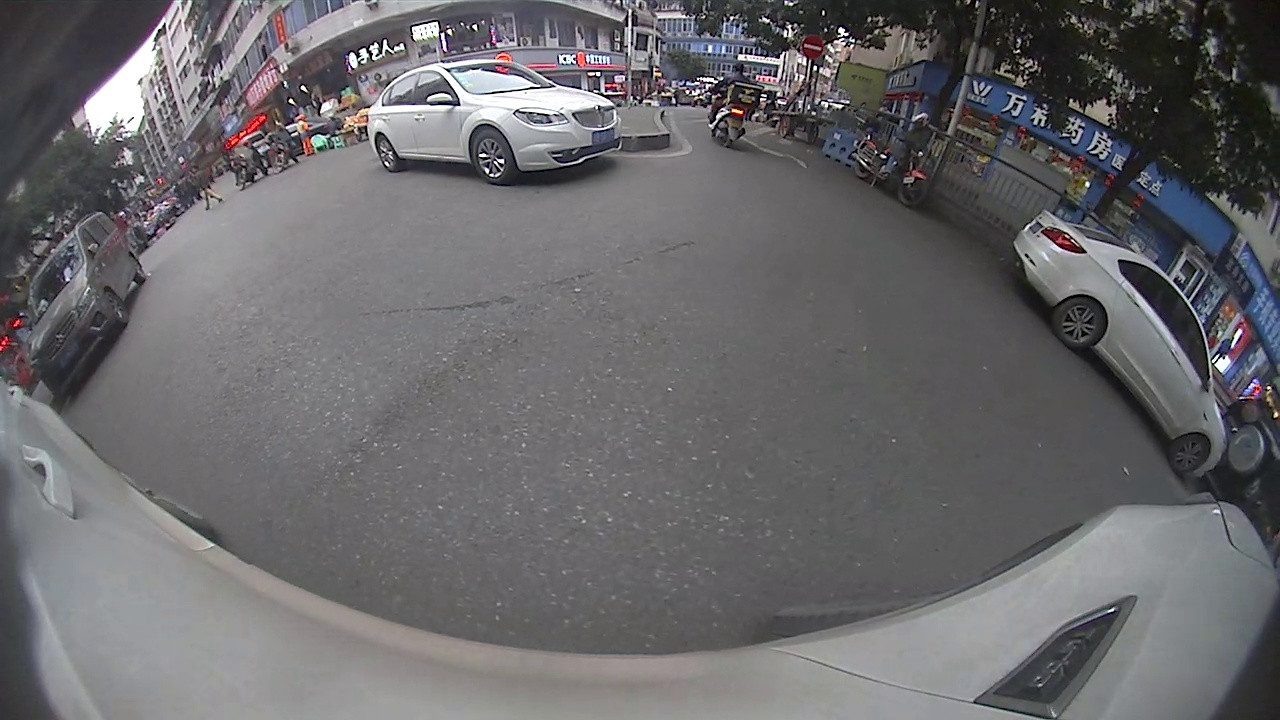car: (1008, 206, 1230, 482), (363, 57, 623, 188), (25, 212, 146, 397)
front: (471, 127, 514, 184), (1168, 435, 1217, 471), (104, 288, 134, 328), (897, 173, 929, 206)
rear: (1049, 293, 1107, 348), (372, 133, 400, 171), (127, 253, 150, 285), (852, 158, 877, 181)
rider: (847, 112, 931, 209), (705, 62, 764, 150)
